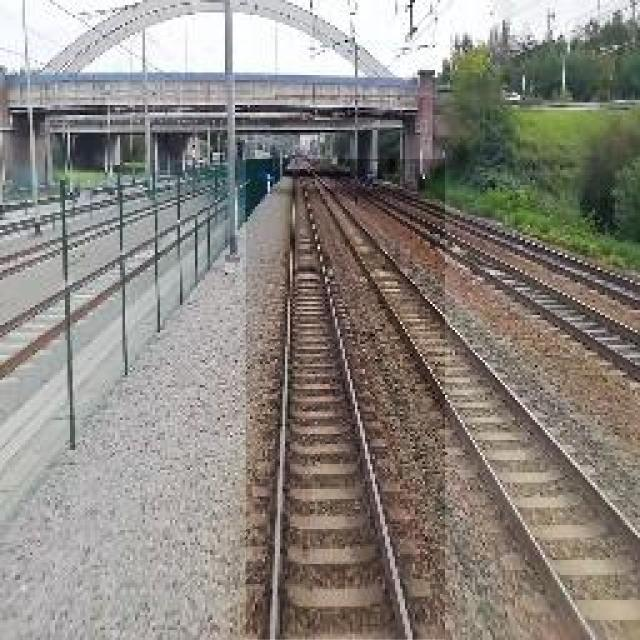rail: (247, 160, 446, 640)
